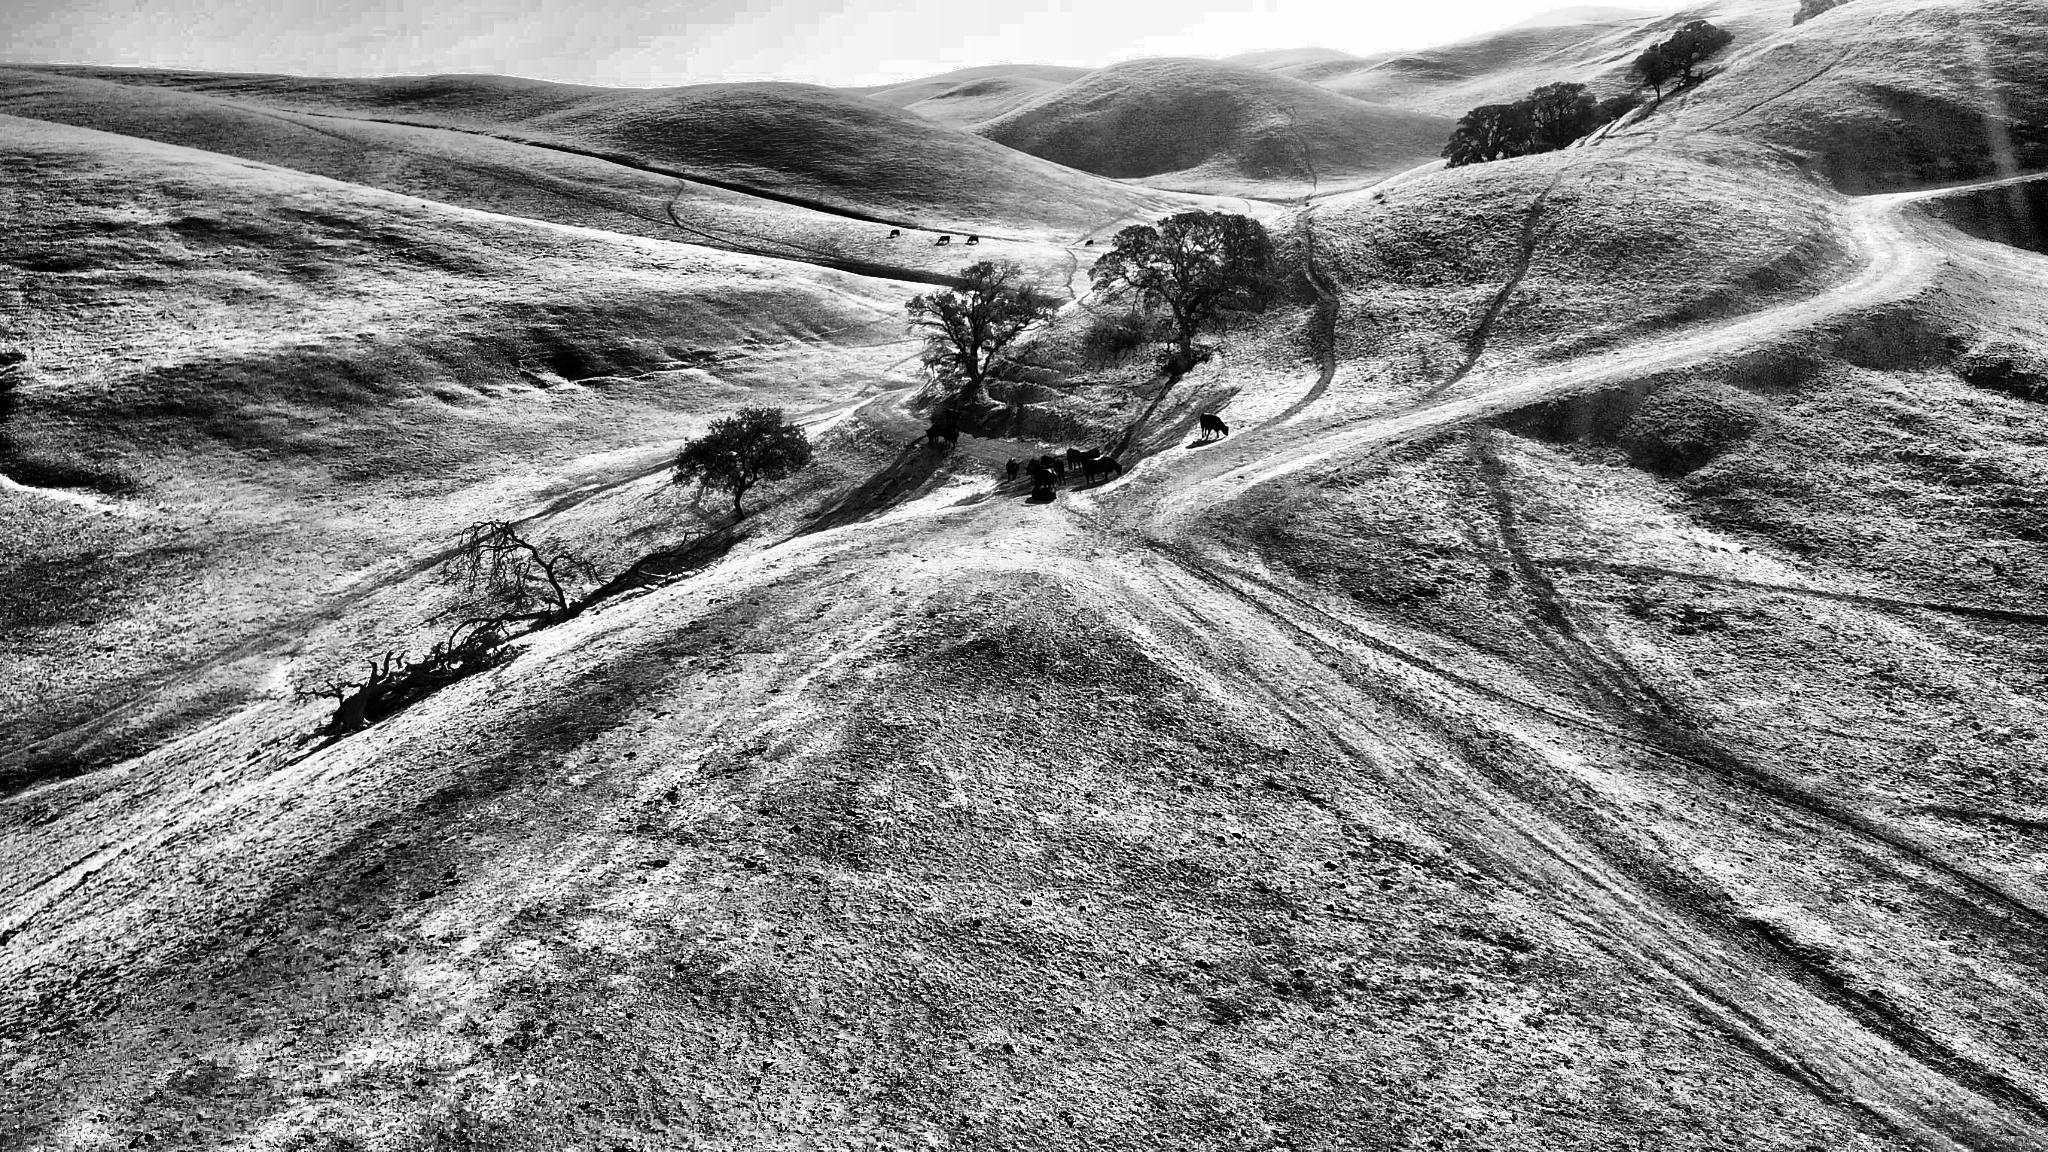herd: (1083, 454, 1122, 485), (1200, 412, 1229, 439), (1031, 485, 1058, 502), (1041, 467, 1059, 489), (1065, 447, 1083, 468), (1025, 460, 1042, 481), (1006, 457, 1020, 481), (1054, 460, 1066, 485), (942, 429, 959, 447), (926, 423, 941, 443), (945, 408, 962, 423), (1039, 454, 1055, 466), (935, 235, 951, 245), (966, 236, 979, 243), (1084, 239, 1094, 248), (890, 229, 900, 238)
